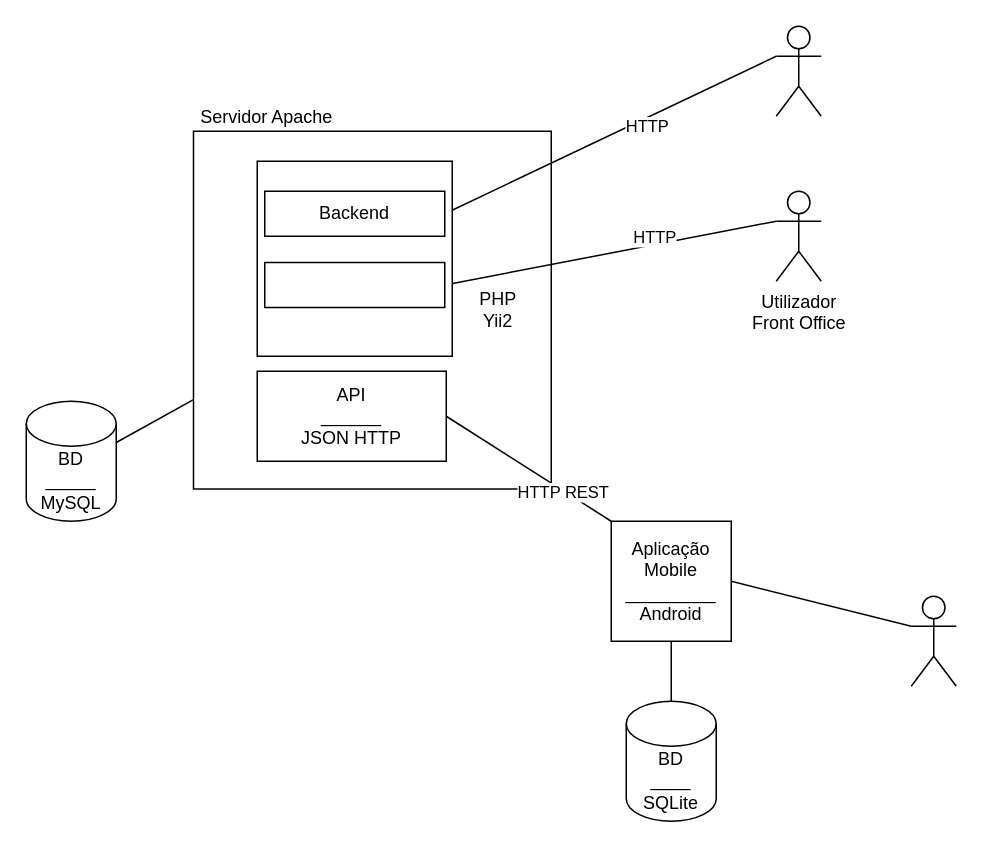
This 998x848 diagram has some shape labels left out. The shapes that lost their labels are listed below. From the top down, each one's centre as x and y in pixels, then its label:
At point 798,70: "Utilizador Back Office".
At point 354,284: "Frontend".
At point 933,640: "Utilizador Mobile".
